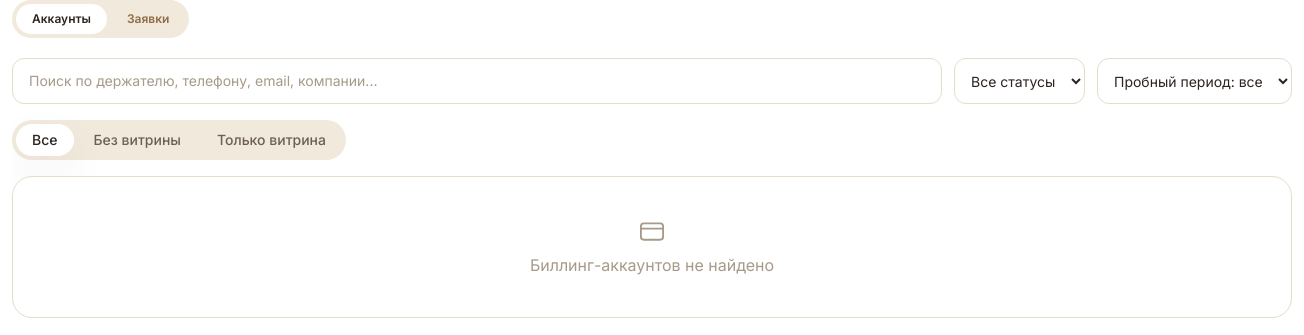
Test: BillingAccountsAdminTab — retiredOptionsNotice in the requests queue (cycle 19) › renders nothing extra when retiredOptionsNotice is null
Click the button "Заявки". click: point(148, 19)
box: 111,4 -> 185,34
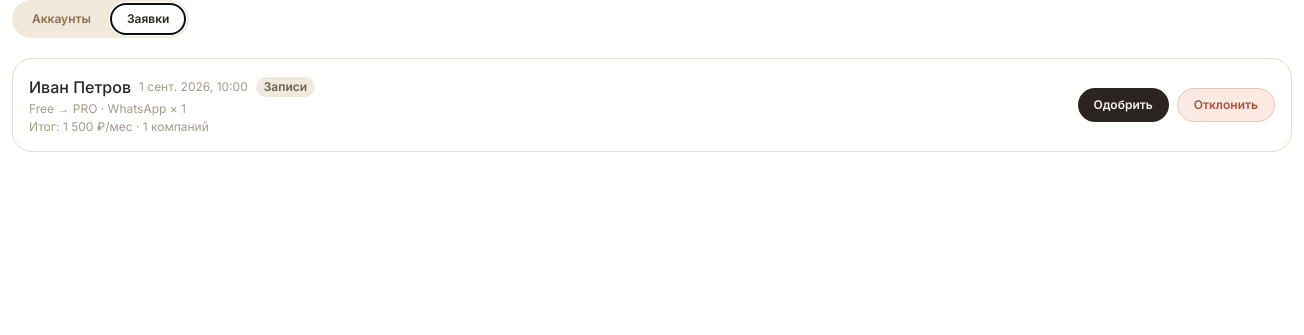
Check: the text "Иван Петров" is shown, box 29,75 -> 131,99
